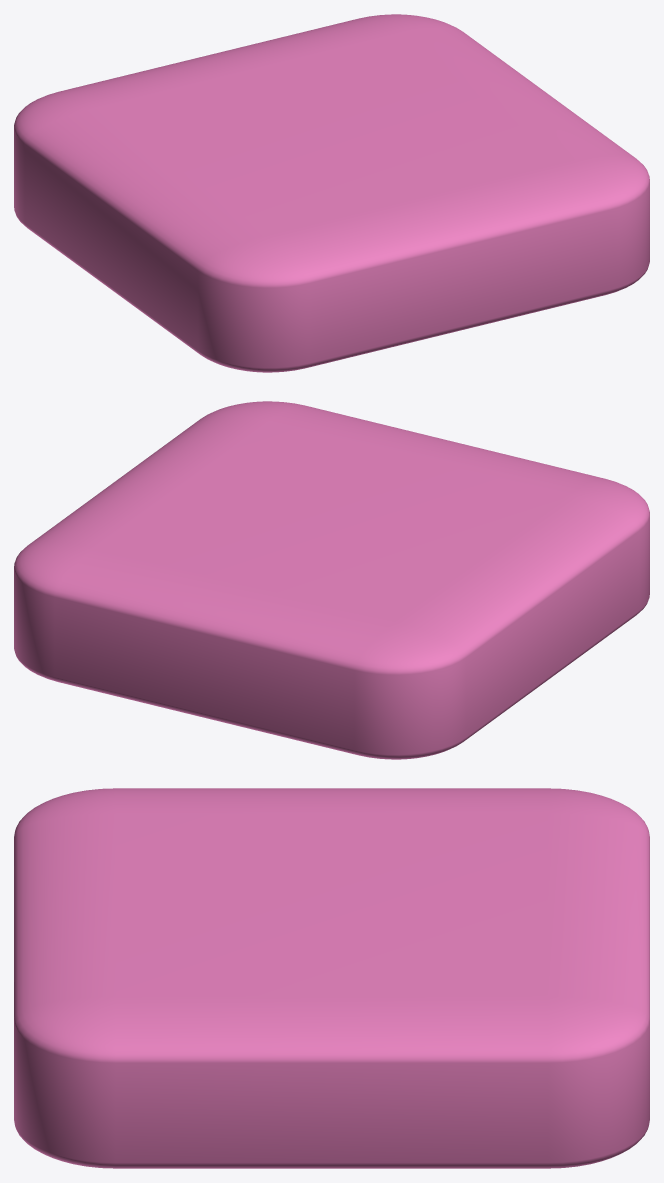
Rendered from wall.glb.
3 renders of one model, top to bottom at view 1: azimuth 30°, elevation 25°; view 2: azimuth 150°, elevation 25°; view 3: azimuth 270°, elevation 25°, orthographic. The views are drawn at different scales.
Visible parts, largest first — view 1: wall.007; view 2: wall.007; view 3: wall.007.
Part boxes in pixels (x1,y1,x2,y2): wall.007: (14, 14, 649, 372); wall.007: (14, 401, 649, 759); wall.007: (14, 788, 649, 1168).
Size of the model in its own units: 2.42 by 0.616 by 2.42.
